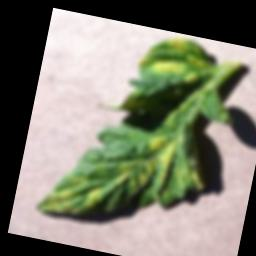Leaf_Mold: (114, 128, 180, 200), (136, 30, 214, 88), (35, 167, 105, 223)
